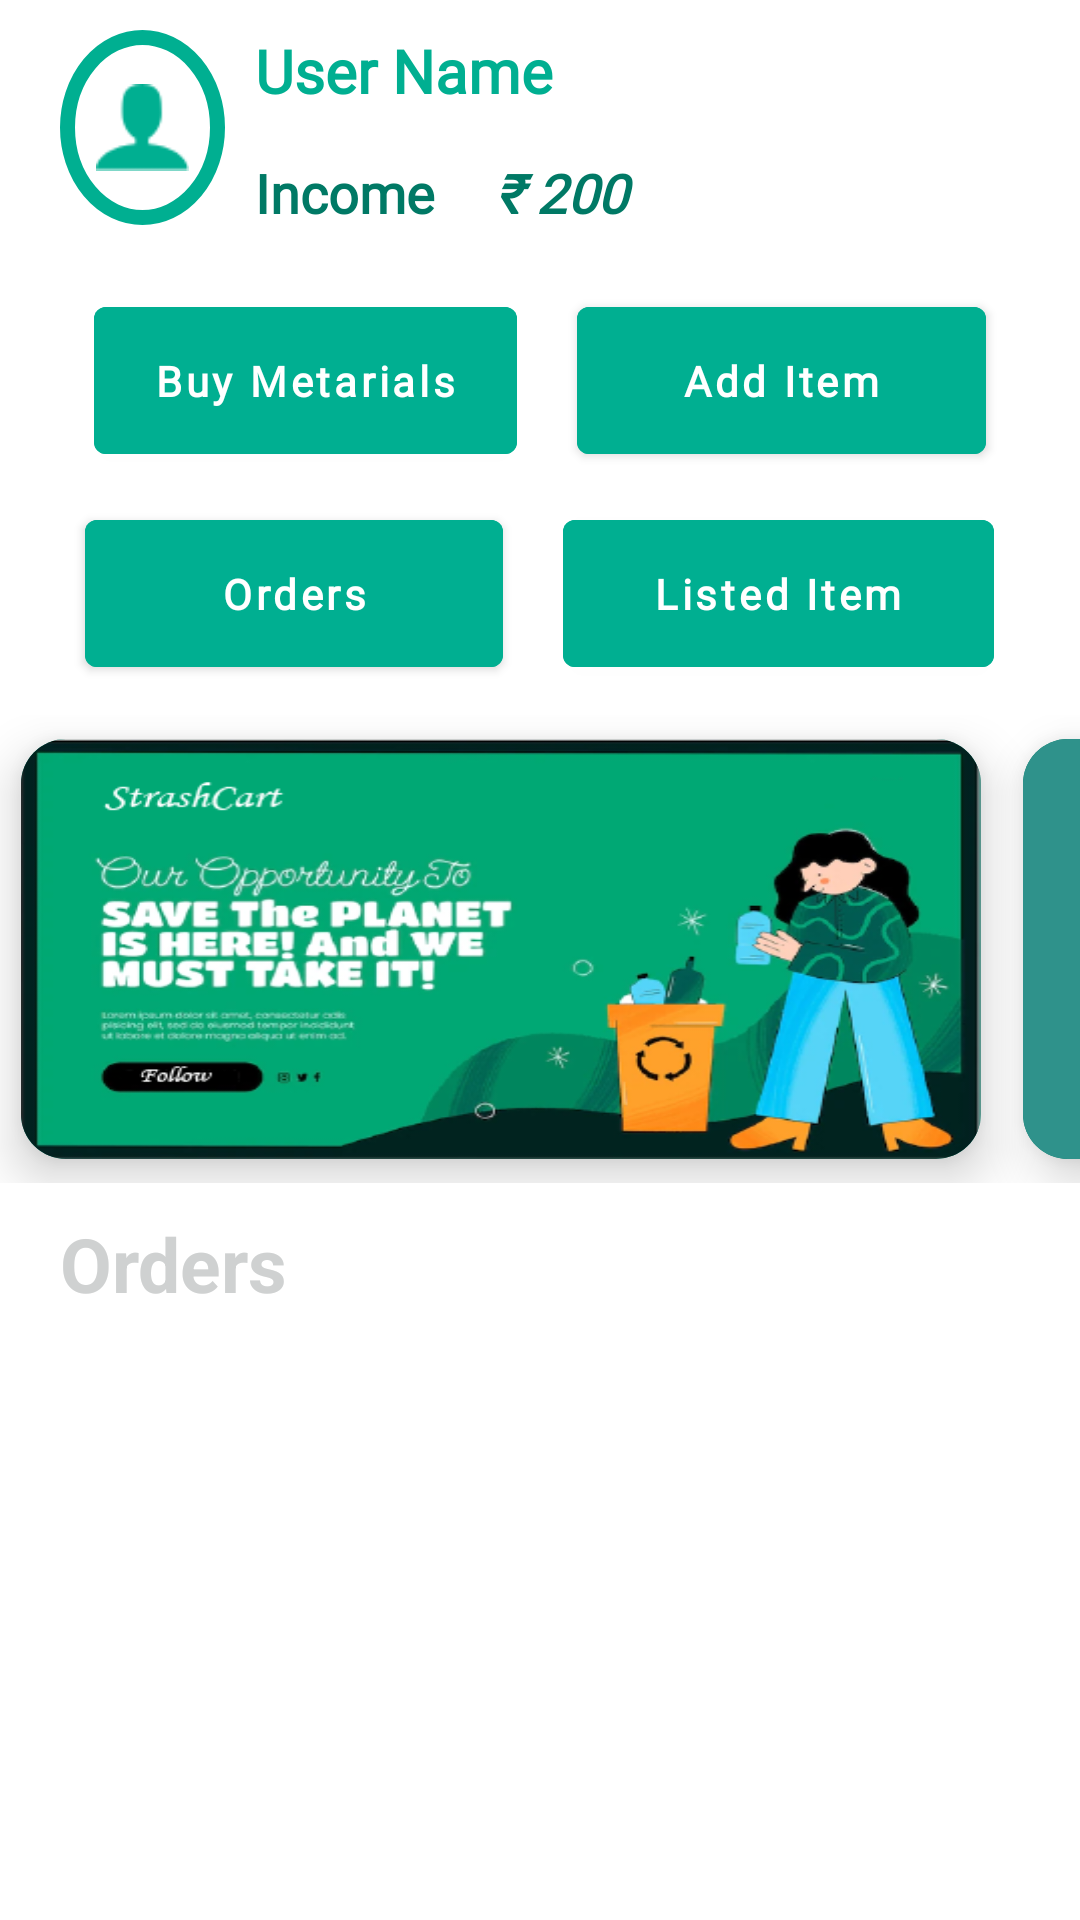

Named icons in this screenshot (1080px x 1920px) and their bounding boxes, bbox(x1, y1, x2, y2):
person: bbox(60, 30, 225, 225)
